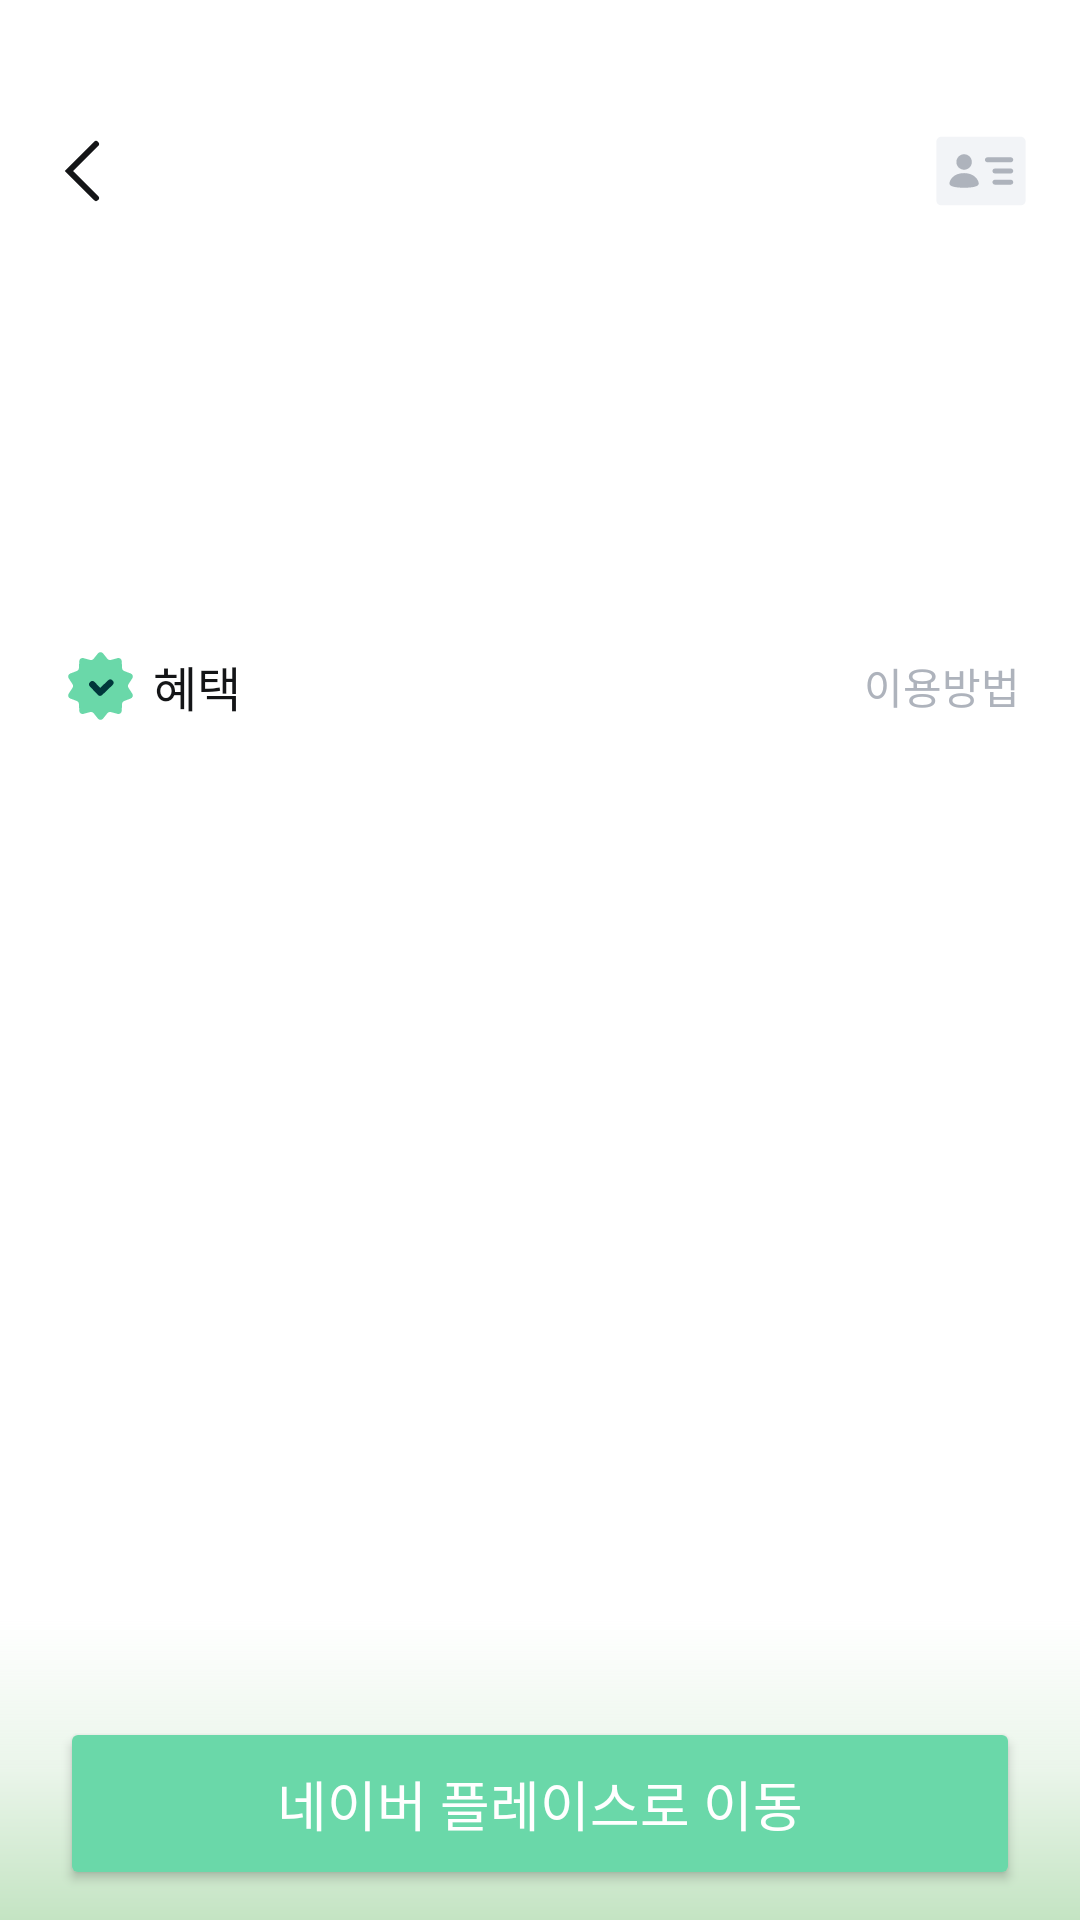

Named icons in this screenshot (1080 × 1920) and their centers, point (x, y):
back: point (82, 170)
studentcard: point (981, 171)
